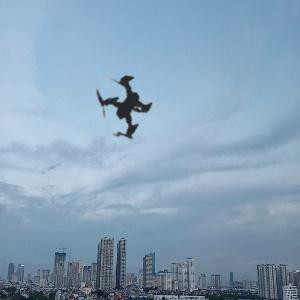drone: (35, 20, 212, 197)
